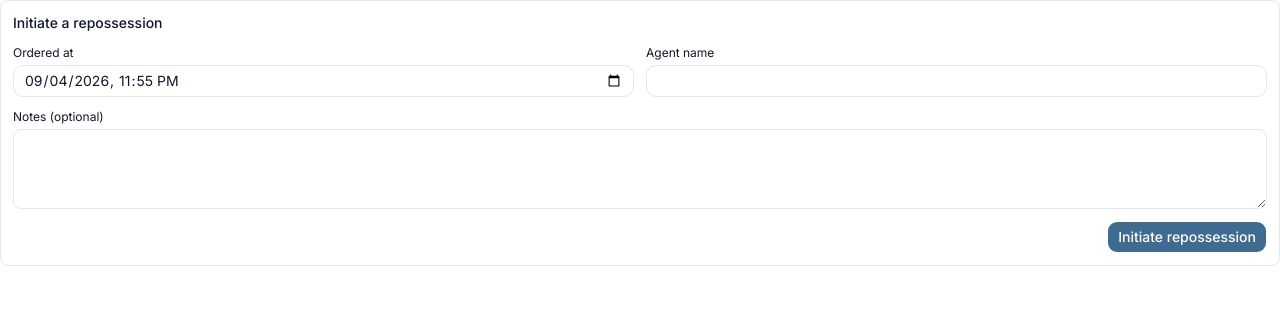
Test: InitiateRepossessionForm › requires an agent name
Click the button with test id "initiate-repo-submit".
click(1187, 237)  # box [1107,221,1267,253]
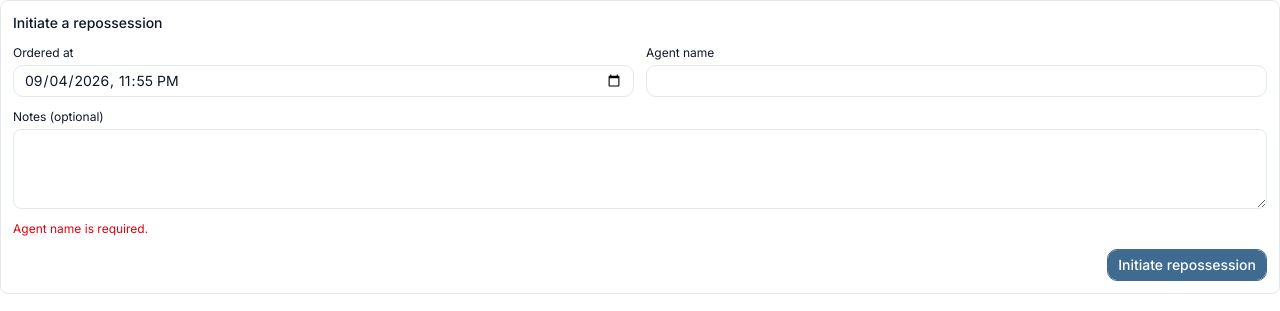
Check: the text with test id "initiate-repo-error" shows "Agent name", box [13,221,148,236]
